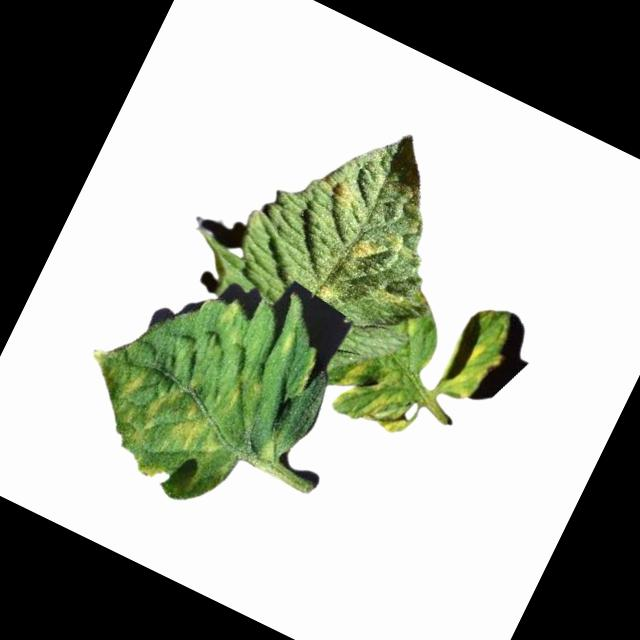Leaf_Mold: (52, 308, 266, 506), (327, 352, 434, 446), (433, 302, 517, 411), (314, 169, 367, 215), (344, 228, 395, 273), (315, 278, 345, 305)
